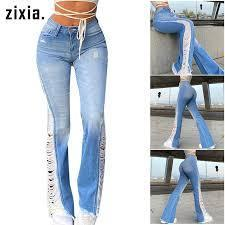pants: (37, 13, 109, 216), (152, 6, 222, 73), (164, 80, 213, 149), (161, 156, 211, 221)
